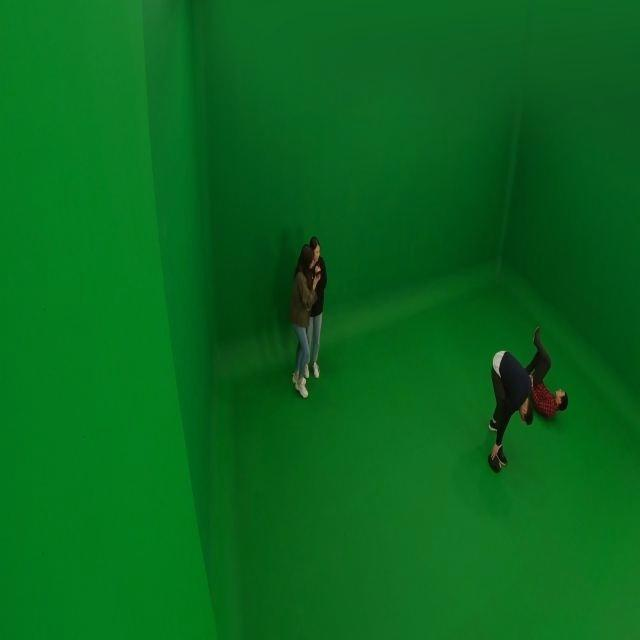fight: (484, 327, 571, 472)
non-fight: (287, 233, 327, 397)
